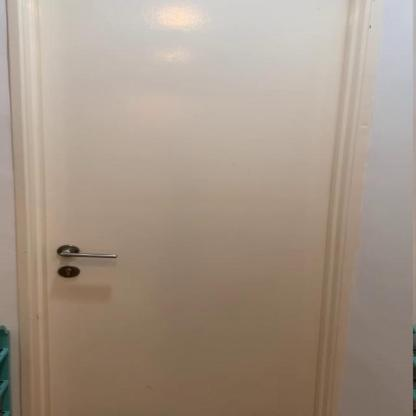door: (5, 0, 355, 416)
